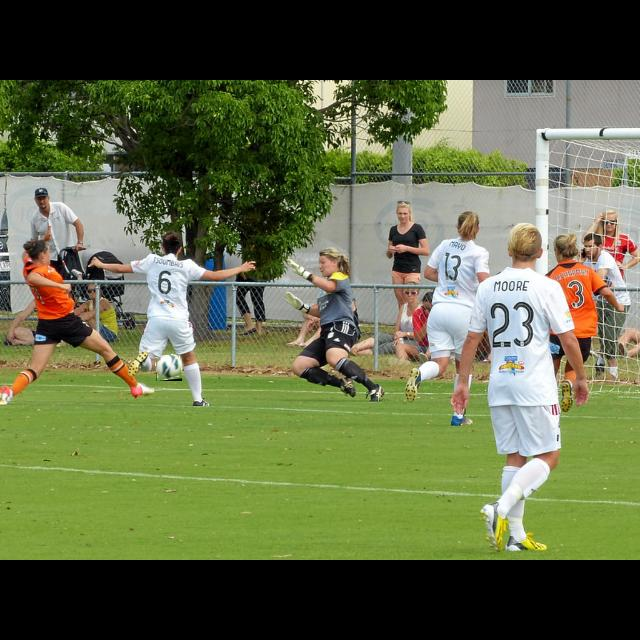Football: (156, 355, 182, 381)
